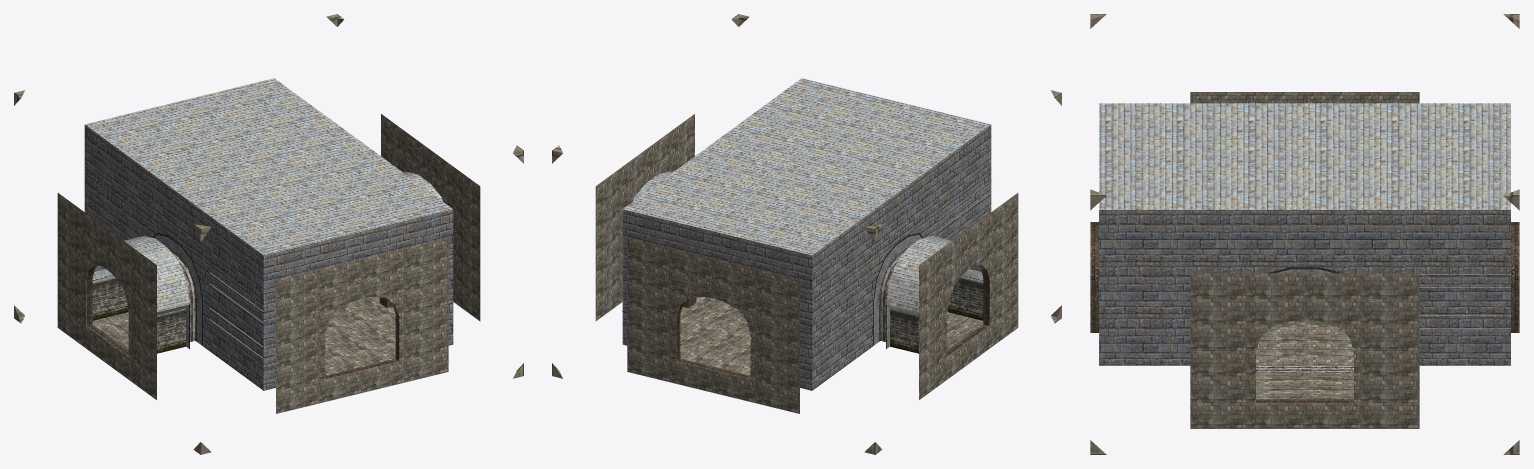
File: lbg_4c.glb
3 renders of one model, left to right at view 1: azimuth 30°, elevation 25°; view 2: azimuth 150°, elevation 25°; view 3: azimuth 270°, elevation 25°, orthographic. The views are drawn at different scales.
Visible parts, largest first — view 1: lbg_4c; view 2: lbg_4c; view 3: lbg_4c.
Part boxes in pixels (x1,y1,x2,y2): lbg_4c: (14,14,523,454); lbg_4c: (552,14,1061,454); lbg_4c: (1090,14,1519,454).
Size of the model in its own units: 15 by 10 by 15.
Materials: 7 (7 with a texture image).
